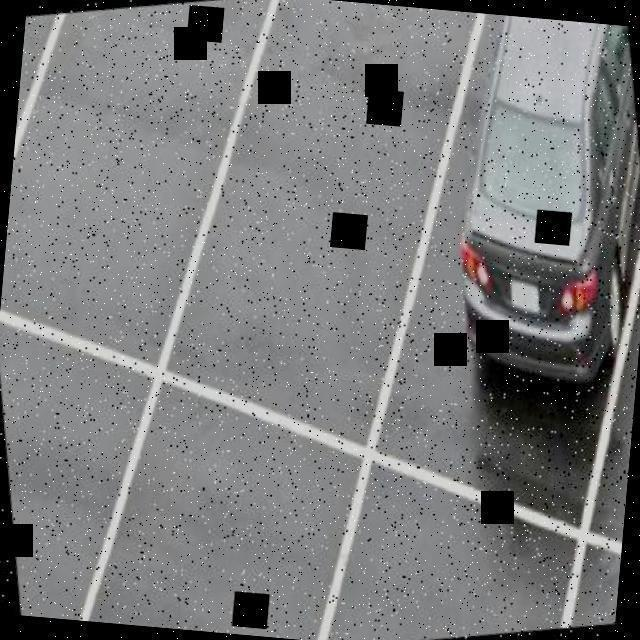Car: (428, 11, 640, 376)
Vacant: (222, 18, 448, 348), (12, 31, 232, 362), (371, 483, 553, 640), (143, 498, 310, 640), (0, 388, 90, 611)
